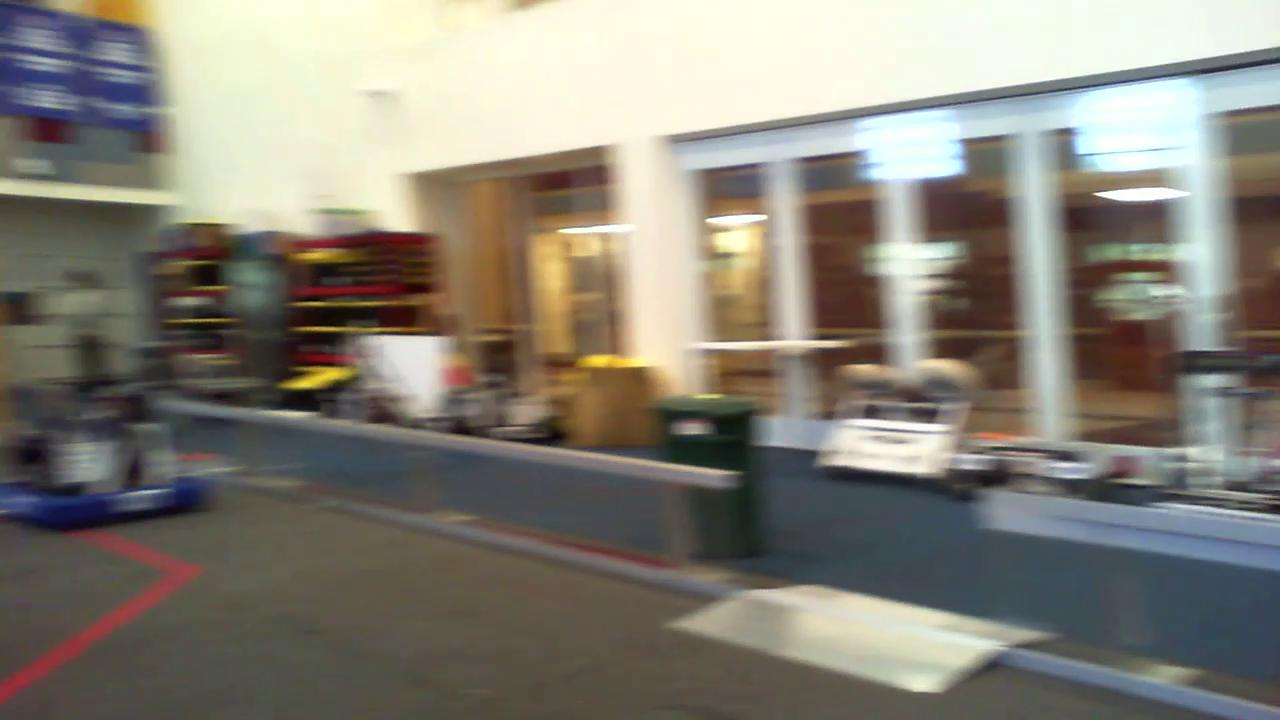robot: (0, 375, 215, 533)
